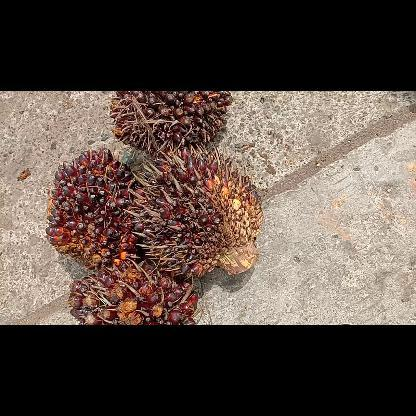Kurang masak: (129, 148, 267, 284), (42, 144, 148, 270), (67, 255, 205, 323), (107, 91, 235, 155)
